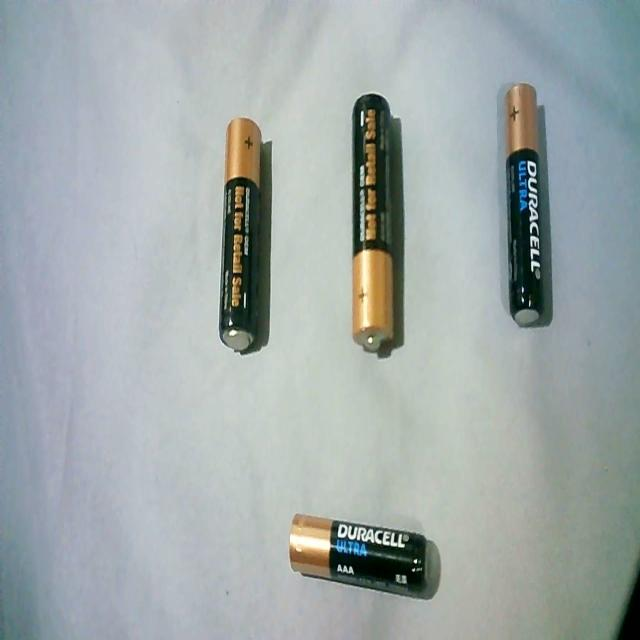AA: (346, 87, 404, 360), (216, 111, 265, 356)
AAA: (284, 502, 435, 602), (500, 73, 554, 328)
